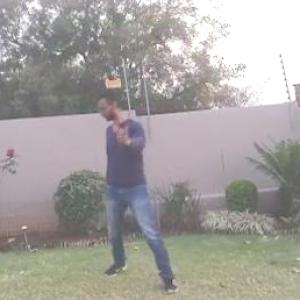takeoff-hand: (112, 110, 135, 150)
